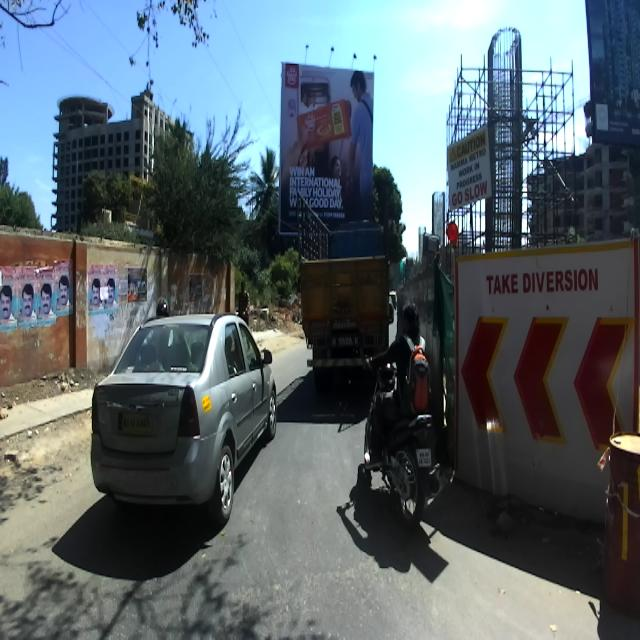barrier ahead at: (460, 242, 640, 556)
car ahead at: (90, 310, 280, 552)
motorcycle ahead at: (356, 390, 446, 527)
